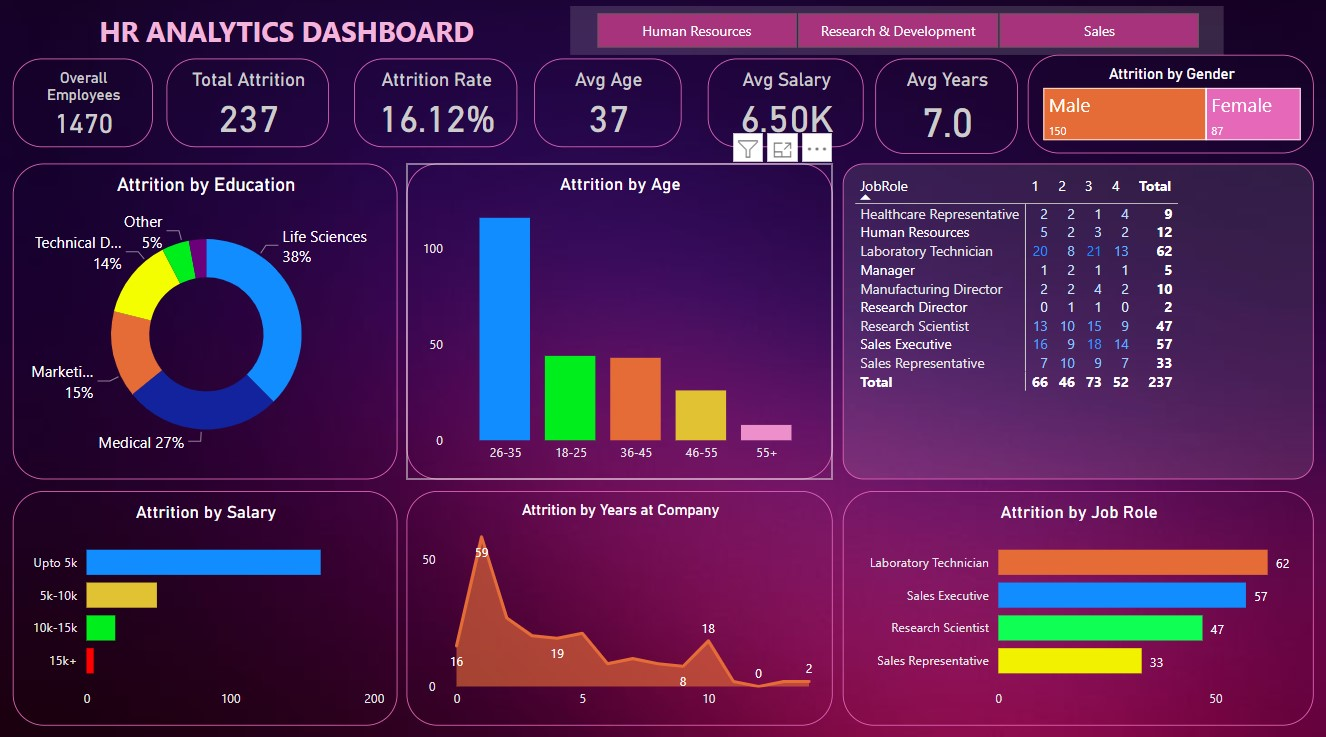

The dashboard page shown, as its layout file describes it:
{"tool":"powerbi","page":{"name":"Page 1","canvas":[1280,720],"ordinal":0},"visuals":[{"type":"card","title":"Overall Employees","fields":{"Values":["Count(HR_Analytics.EmpID)"]},"box":[13.3,60.3,135.1,85.6],"z":0},{"type":"card","title":"Total Attrition","fields":{"Values":["Sum(HR_Analytics.Attrition Count)"]},"box":[161.6,60.3,156.8,85.6],"z":1000},{"type":"card","title":"Attrition Rate","fields":{"Values":["Avg(HR_Analytics.Attrition Rate)"]},"box":[342.5,60.3,158,85.6],"z":2000},{"type":"card","title":"Avg Age","fields":{"Values":["Max(HR_Analytics.Avg Age)"]},"box":[516.2,60.3,142.3,85.6],"z":3000},{"type":"card","title":"Avg Salary","fields":{"Values":["Avg(HR_Analytics.Avg Salary)"]},"box":[683.8,60.3,150.8,85.6],"z":4000},{"type":"card","title":"Avg Years","fields":{"Values":["Avg(HR_Analytics.Years at Company)"]},"box":[845.4,60.3,137.5,91.7],"z":5000},{"type":"donutChart","title":"Attrition by Education","fields":{"Category":["HR_Analytics.EducationField"],"Y":["Sum(HR_Analytics.Attrition Count)"]},"box":[13.3,161.6,371.5,305.1],"z":6000},{"type":"clusteredColumnChart","title":"Attrition by Age","fields":{"Category":["HR_Analytics.AgeGroup"],"Y":["Sum(HR_Analytics.Attrition Count)"]},"box":[393.2,161.6,411.3,305.1],"z":7000},{"type":"clusteredBarChart","title":"Attrition by Salary","fields":{"Category":["HR_Analytics.SalarySlab"],"Y":["Sum(HR_Analytics.Attrition Count)"]},"box":[13.3,477.6,371.5,226.7],"z":8000},{"type":"areaChart","title":"Attrition by Years at Company","fields":{"Category":["HR_Analytics.YearsAtCompany"],"Y":["Sum(HR_Analytics.Attrition Count)"]},"box":[393.2,477.6,411.3,226.7],"z":9000},{"type":"pivotTable","fields":{"Rows":["HR_Analytics.JobRole"],"Columns":["HR_Analytics.JobSatisfaction"],"Values":["Sum(HR_Analytics.Attrition Count)"]},"box":[814.1,161.6,454.7,305.1],"z":10000},{"type":"slicer","fields":{"Values":["HR_Analytics.Department"]},"box":[551.2,9.6,630.8,47],"z":11000},{"type":"clusteredBarChart","title":"Attrition by Job Role","fields":{"Category":["HR_Analytics.JobRole"],"Y":["Sum(HR_Analytics.Attrition Count)"]},"box":[814.1,477.6,454.7,226.7],"z":12000},{"type":"treemap","title":"Attrition by Gender","fields":{"Group":["HR_Analytics.Gender"],"Values":["Sum(HR_Analytics.Attrition Count)"]},"box":[992.6,56.7,276.2,95.3],"z":13000},{"type":"textbox","box":[13.3,10.9,528.2,49.4],"z":14000}]}

Visuals, with their boxes in screenshot pixels (x1, y1, x2, y2), scaled from the page's 1280x720 canvas onto the 1326x737 screenshot:
"Overall Employees" card: (x1=14, y1=62, x2=154, y2=149)
"Total Attrition" card: (x1=167, y1=62, x2=330, y2=149)
"Attrition Rate" card: (x1=355, y1=62, x2=518, y2=149)
"Avg Age" card: (x1=535, y1=62, x2=682, y2=149)
"Avg Salary" card: (x1=708, y1=62, x2=865, y2=149)
"Avg Years" card: (x1=876, y1=62, x2=1018, y2=156)
"Attrition by Education" donutChart: (x1=14, y1=165, x2=399, y2=478)
"Attrition by Age" clusteredColumnChart: (x1=407, y1=165, x2=833, y2=478)
"Attrition by Salary" clusteredBarChart: (x1=14, y1=489, x2=399, y2=721)
"Attrition by Years at Company" areaChart: (x1=407, y1=489, x2=833, y2=721)
pivotTable - HR_Analytics.JobRole x HR_Analytics.JobSatisfaction: (x1=843, y1=165, x2=1314, y2=478)
slicer - HR_Analytics.Department: (x1=571, y1=10, x2=1224, y2=58)
"Attrition by Job Role" clusteredBarChart: (x1=843, y1=489, x2=1314, y2=721)
"Attrition by Gender" treemap: (x1=1028, y1=58, x2=1314, y2=156)
textbox: (x1=14, y1=11, x2=561, y2=62)
